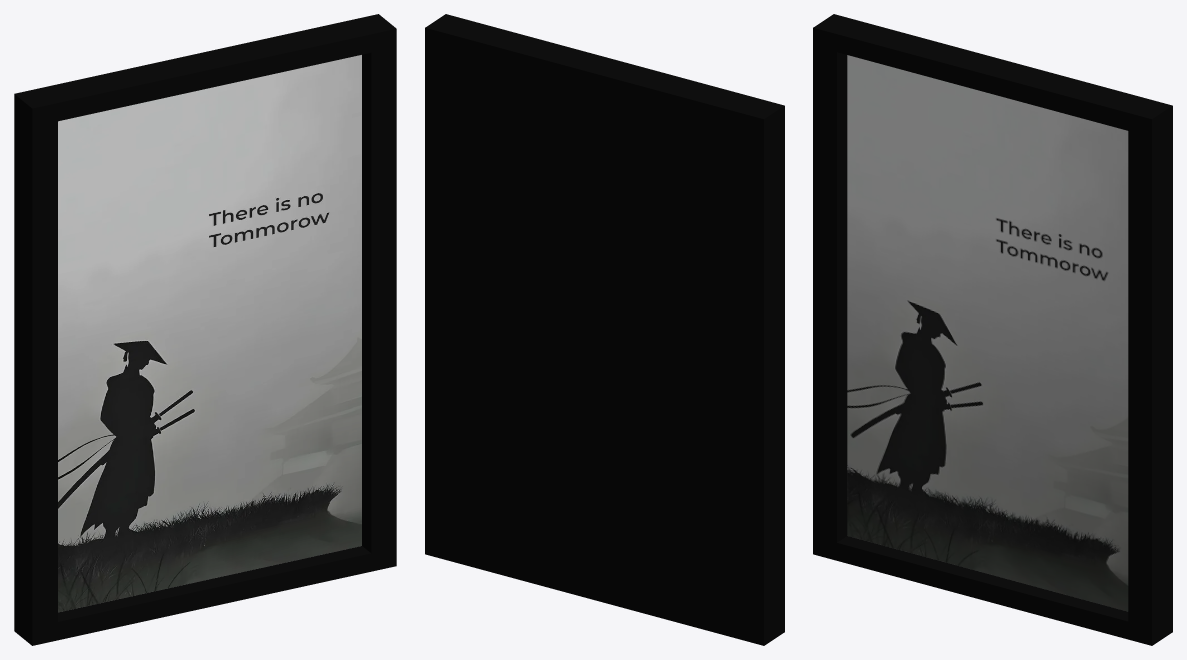
Rendered from no_tomorrow-DKNP3nJe.glb.
3 renders of one model, left to right at view 1: azimuth 30°, elevation 25°; view 2: azimuth 150°, elevation 25°; view 3: azimuth 330°, elevation 25°, orthographic. The views are drawn at different scales.
Visible parts, largest first — view 1: StudyShelf_2357; view 2: StudyShelf_2357; view 3: StudyShelf_2357.
Boxes of the visible parts, x1,y1,x2,y2 form: StudyShelf_2357: (14,14,396,645); StudyShelf_2357: (425,14,784,645); StudyShelf_2357: (813,14,1172,645).
Size of the model in its own units: 69.01 by 99.35 by 9.71.
2 materials, 1 textured.
